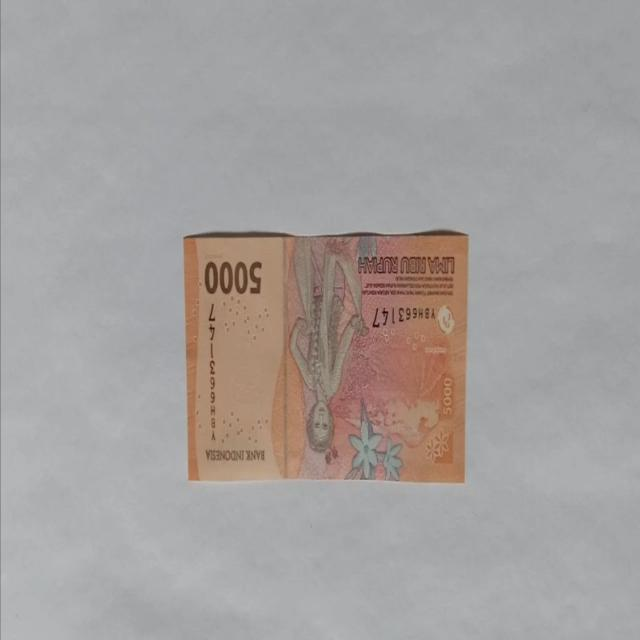lima ribu rupiah: (182, 228, 470, 482)
